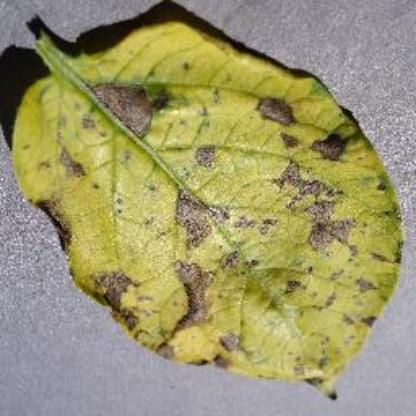Early-Blight: (11, 14, 405, 400)
